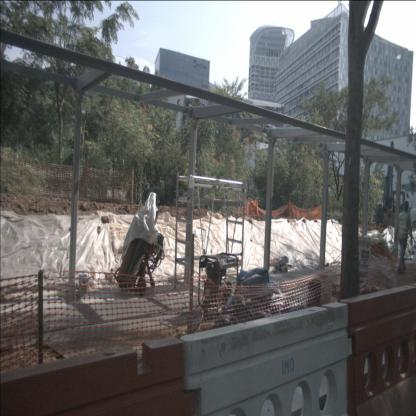movable_object-barrier: (179, 302, 352, 416), (341, 283, 415, 415)
